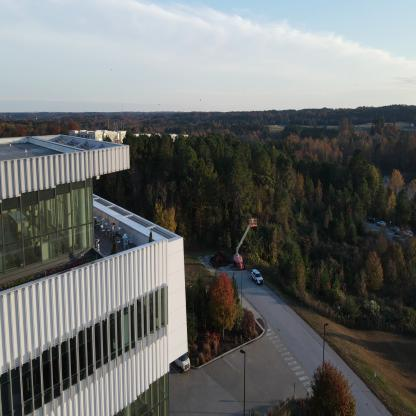Hunt Library: (0, 100, 171, 416)
